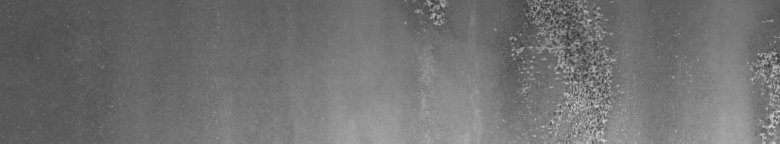hc: (686, 18, 776, 136)
